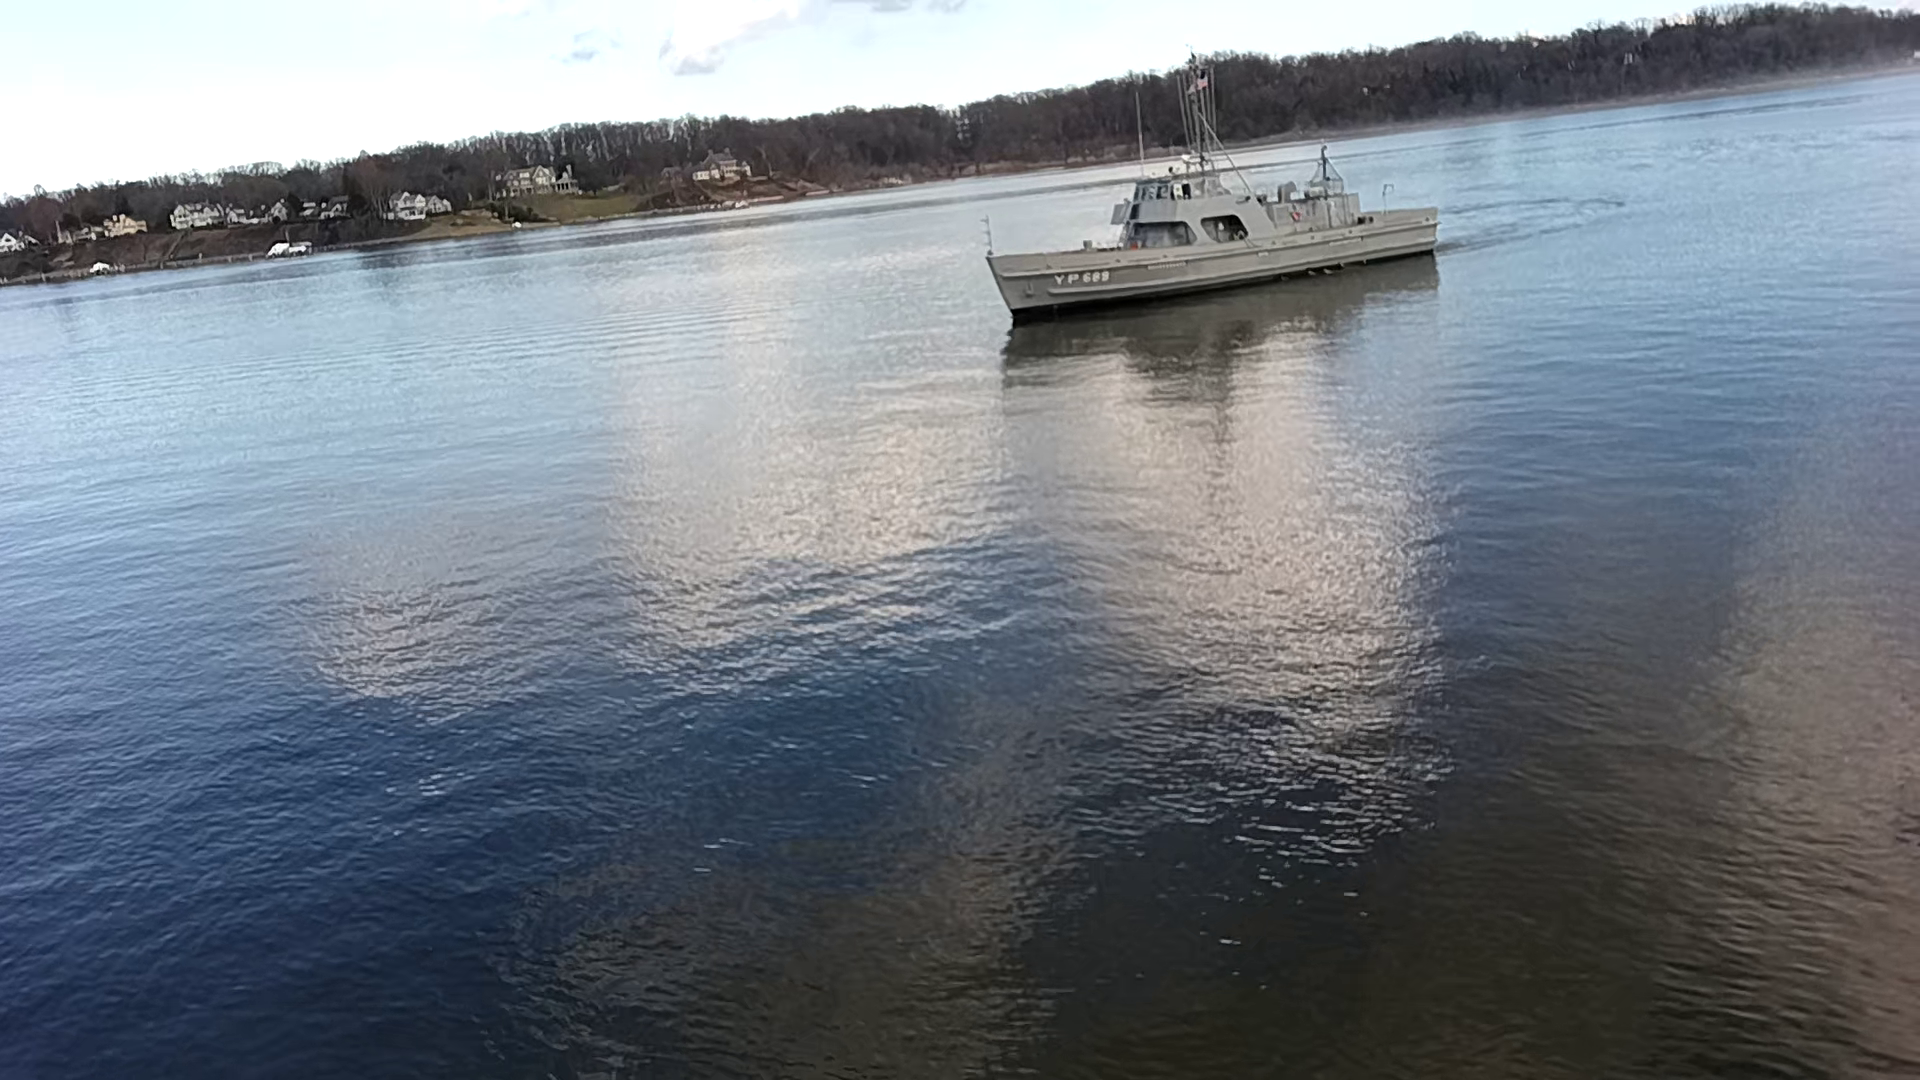YP689: (982, 49, 1439, 320)
